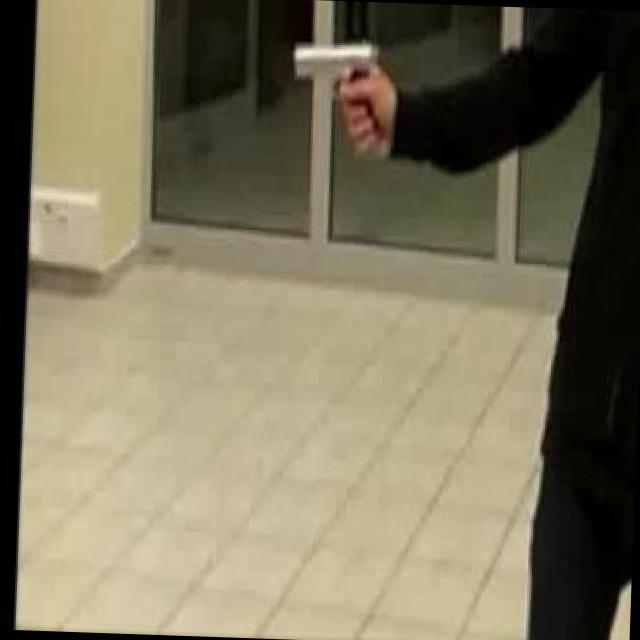Guns: (280, 31, 398, 116)
